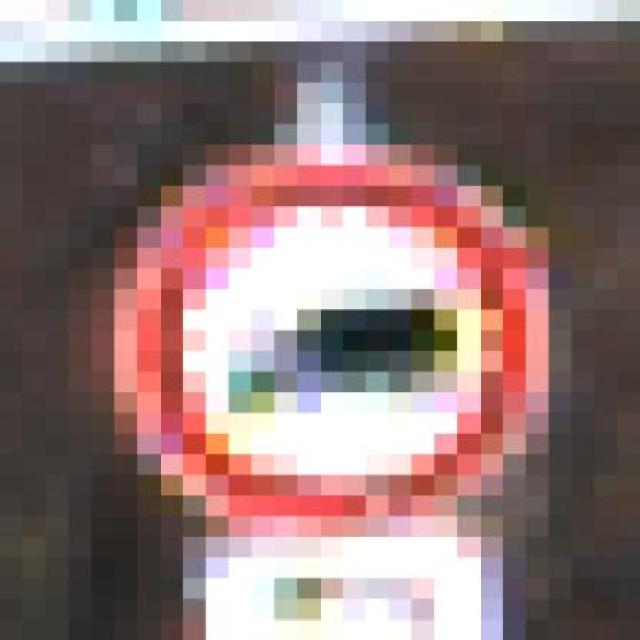Truck traffic is prohibited: (56, 126, 582, 540)
